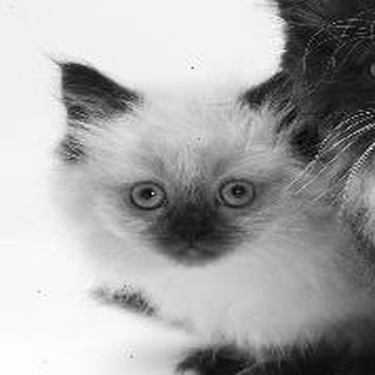cat: (54, 58, 368, 367), (162, 1, 370, 366)
